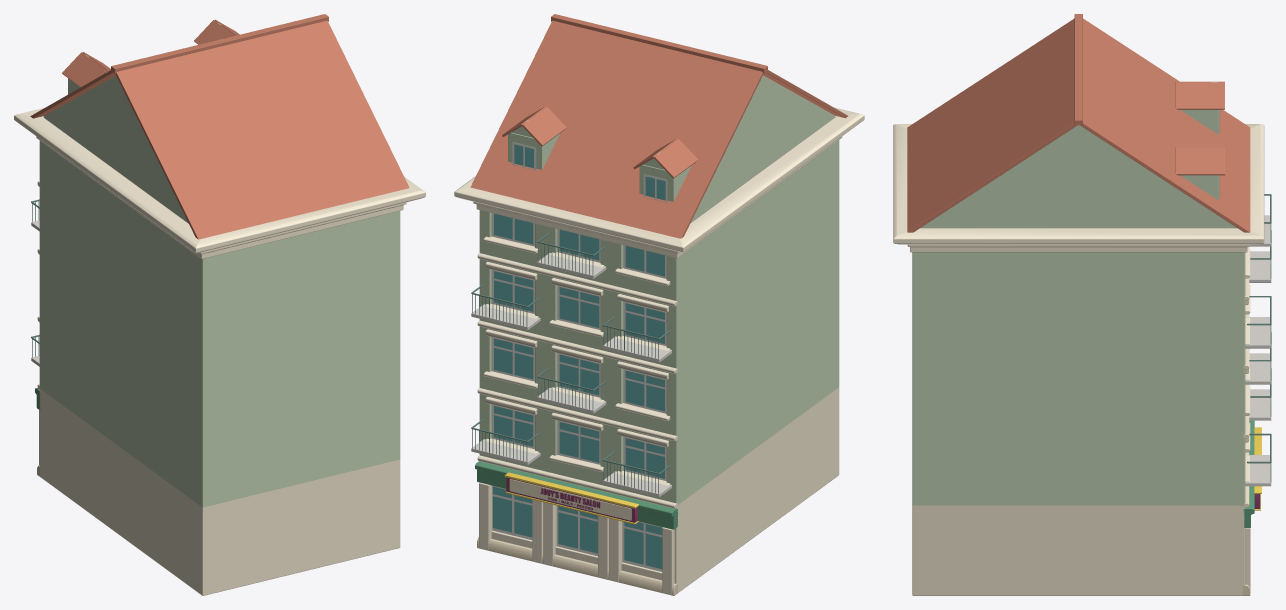
File: far_shophouse_09.glb
3 views of the same model, side by side, from view 1: azimuth 30°, elevation 25°; view 2: azimuth 150°, elevation 25°; view 3: azimuth 270°, elevation 25° (orthographic). The views are drawn at different scales.
Visible parts, largest first — view 1: shell, props, trim; view 2: shell, props, trim, frames, sign_jovy_s_beauty_salon; view 3: shell, props, trim.
Part boxes in pixels (x1,y1,x2,y2): shell: [39, 118, 400, 595]; props: [30, 14, 409, 366]; trim: [14, 107, 425, 477]; shell: [479, 117, 839, 592]; props: [470, 14, 848, 497]; trim: [454, 107, 864, 595]; frames: [491, 142, 667, 571]; sign_jovy_s_beauty_salon: [504, 472, 638, 524]; shell: [912, 252, 1245, 595]; props: [907, 14, 1271, 486]; trim: [893, 124, 1264, 595].
Bounding box in the file's own units: 11.4 × 22.28 × 15.91.
